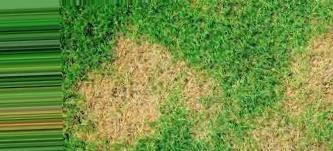patch: (95, 46, 162, 140), (297, 42, 332, 119), (257, 114, 309, 150), (181, 77, 214, 113)
